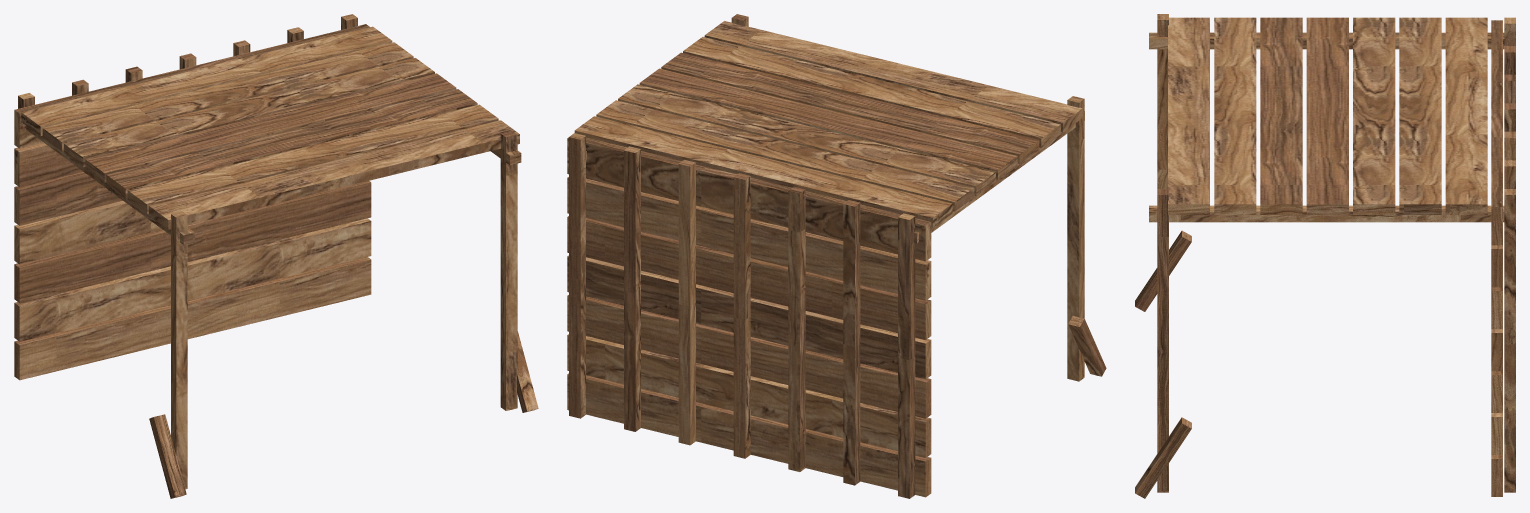
The model's file is market.fbx.
3 views of the same model, side by side, from view 1: azimuth 30°, elevation 25°; view 2: azimuth 150°, elevation 25°; view 3: azimuth 270°, elevation 25° (orthographic). The views are drawn at different scales.
Visible parts, largest first — view 1: Cube; view 2: Cube; view 3: Cube.
Boxes of the visible parts, bbox=[...] form: Cube: bbox=[14, 14, 538, 498]; Cube: bbox=[567, 14, 1106, 498]; Cube: bbox=[1135, 14, 1515, 498].
Size of the model in its own units: 787 by 567 by 657.
